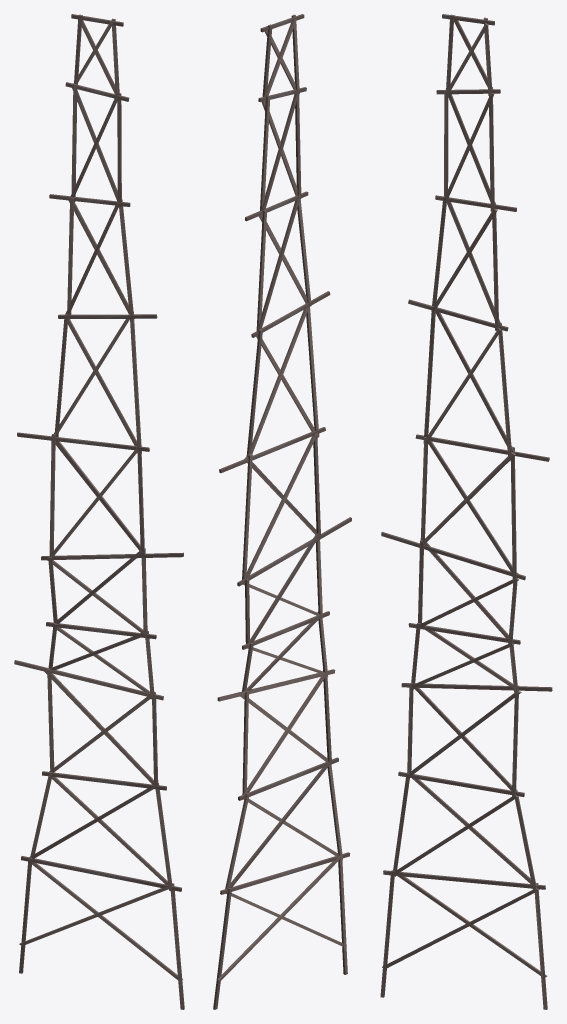
The model's file is pylon_003.fbx.
3 views of the same model, side by side, from view 1: azimuth 90°, elevation 25°; view 2: azimuth 150°, elevation 25°; view 3: azimuth 270°, elevation 25° (orthographic).
Visible parts, largest first — view 1: pylon.003; view 2: pylon.003; view 3: pylon.003.
Part boxes in pixels (x1=…): pylon.003: x1=14, y1=14, x2=184, y2=1009; pylon.003: x1=213, y1=14, x2=351, y2=1009; pylon.003: x1=380, y1=14, x2=552, y2=1009.
Size of the model in its own units: 92.81 by 1521 by 239.
